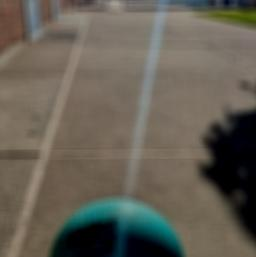algae: (44, 192, 187, 257)
